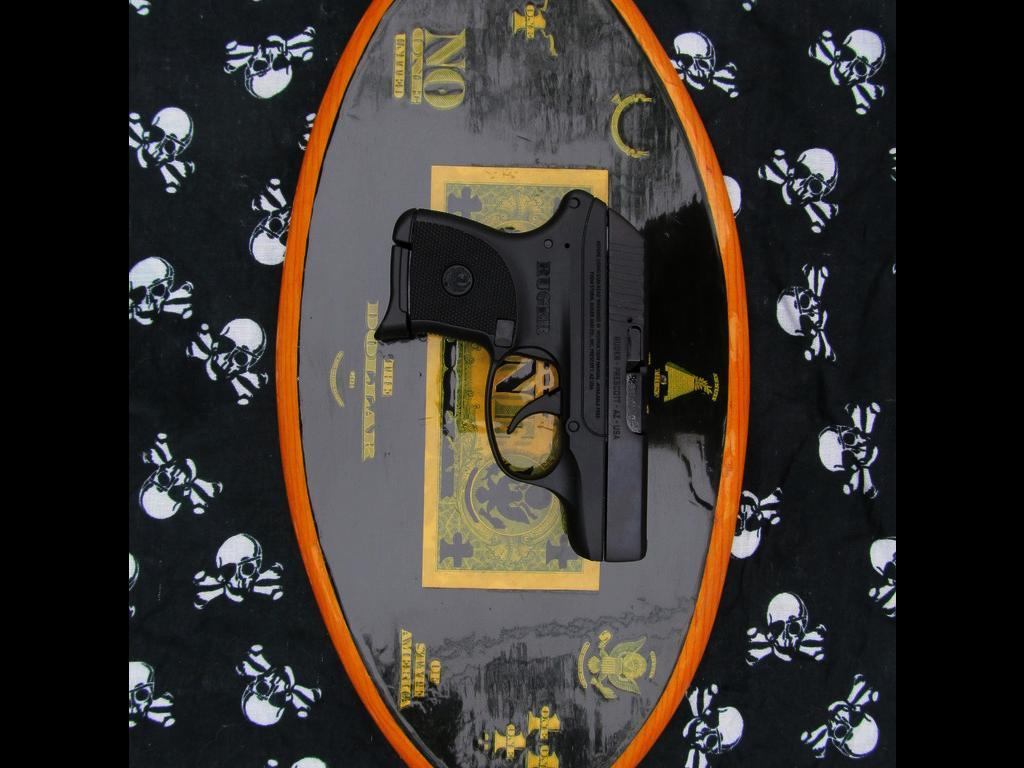gun: (388, 193, 650, 562)
